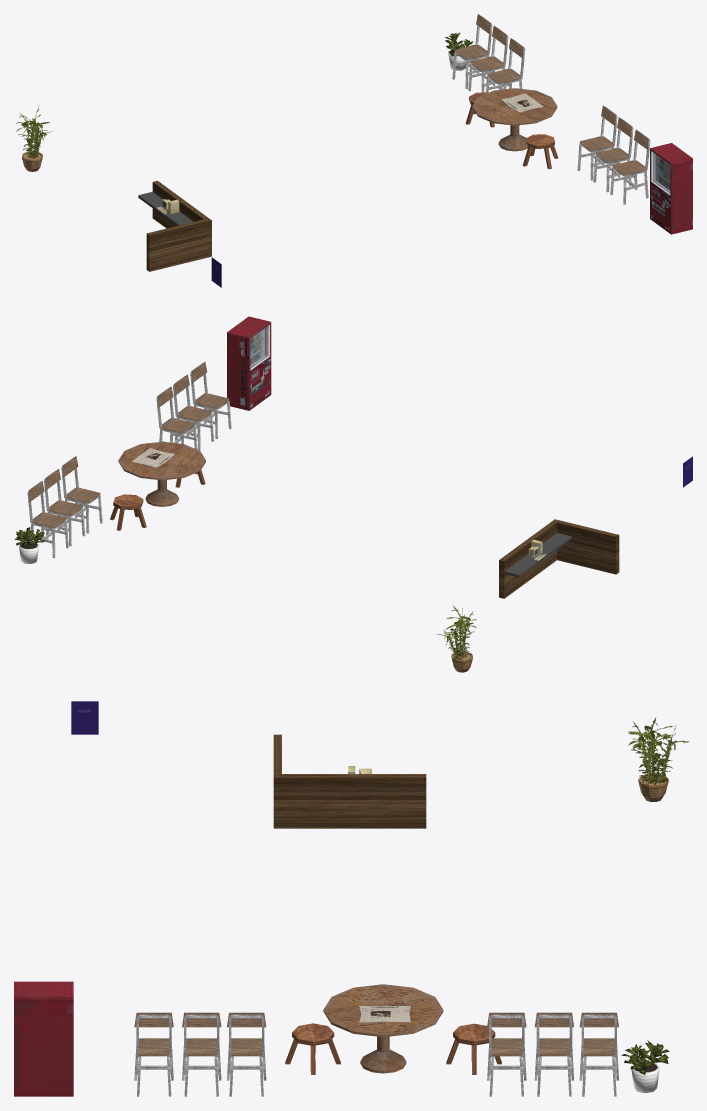
The model's file is lånekassa interior.glb.
3 views of the same model, one above another, from view 1: azimuth 30°, elevation 25°; view 2: azimuth 150°, elevation 25°; view 3: azimuth 270°, elevation 25° (orthographic). The views are drawn at different scales.
Parts seen in each view (by area): view 1: Plane, SM_Wooden_Table, Cube_001, Cube, Plane_002_Flowerpot_0, Chair'sBase_1_002, PSXWoodenStool_0_001, Cube_002, Chair'sBase_1_001, WoodParts_0_004, Chair'sBase_1_005, Chair'sBase_1 (+7 smaller); view 2: Plane, SM_Wooden_Table, Cube_001, Cube, Plane_002_Flowerpot_0, Cube_002, PSXWoodenStool_0, Chair'sBase_1_005, WoodParts_0_001, WoodParts_0, WoodParts_0_004, WoodParts_0_003 (+6 smaller); view 3: Cube, Plane, SM_Wooden_Table, Plane_002_Flowerpot_0, PSXWoodenStool_0_001, PSXWoodenStool_0, WoodParts_0_002, WoodParts_0_004, WoodParts_0, WoodParts_0_001, WoodParts_0_005, WoodParts_0_003 (+10 smaller).
Boxes of the visible parts, x1,y1,x2,y2 form: Plane: (650,143,692,234); SM_Wooden_Table: (472,88,557,151); Cube_001: (146,219,207,271); Cube: (152,180,211,257); Plane_002_Flowerpot_0: (15,105,52,171); Chair'sBase_1_002: (610,131,650,204); PSXWoodenStool_0_001: (522,134,558,169); Cube_002: (138,192,193,225); Chair'sBase_1_001: (593,119,633,192); WoodParts_0_004: (470,25,506,71); Chair'sBase_1_005: (452,16,492,88); Chair'sBase_1: (577,107,617,180); Plane: (227,316,271,410); SM_Wooden_Table: (118,441,205,506); Cube_001: (556,520,619,574); Cube: (499,519,558,598); Plane_002_Flowerpot_0: (437,605,476,672); Cube_002: (504,533,571,577); PSXWoodenStool_0: (110,494,146,530); Chair'sBase_1_005: (27,482,68,558); WoodParts_0_001: (174,374,211,421); WoodParts_0: (158,386,195,433); WoodParts_0_004: (45,469,82,515); WoodParts_0_003: (63,456,100,503); Cube: (273,774,426,828); Plane: (14,981,73,1096); SM_Wooden_Table: (323,984,443,1073); Plane_002_Flowerpot_0: (628,717,689,801); PSXWoodenStool_0_001: (285,1023,340,1074); PSXWoodenStool_0: (446,1023,501,1074); WoodParts_0_002: (134,1012,173,1056); WoodParts_0_004: (534,1012,573,1056); WoodParts_0: (227,1012,266,1056); WoodParts_0_001: (182,1012,221,1056); WoodParts_0_005: (579,1012,618,1056); WoodParts_0_003: (487,1012,526,1056).
Bounding box in the file's own units: 16.97 × 2.54 × 15.54.
36 materials, 33 textured.
